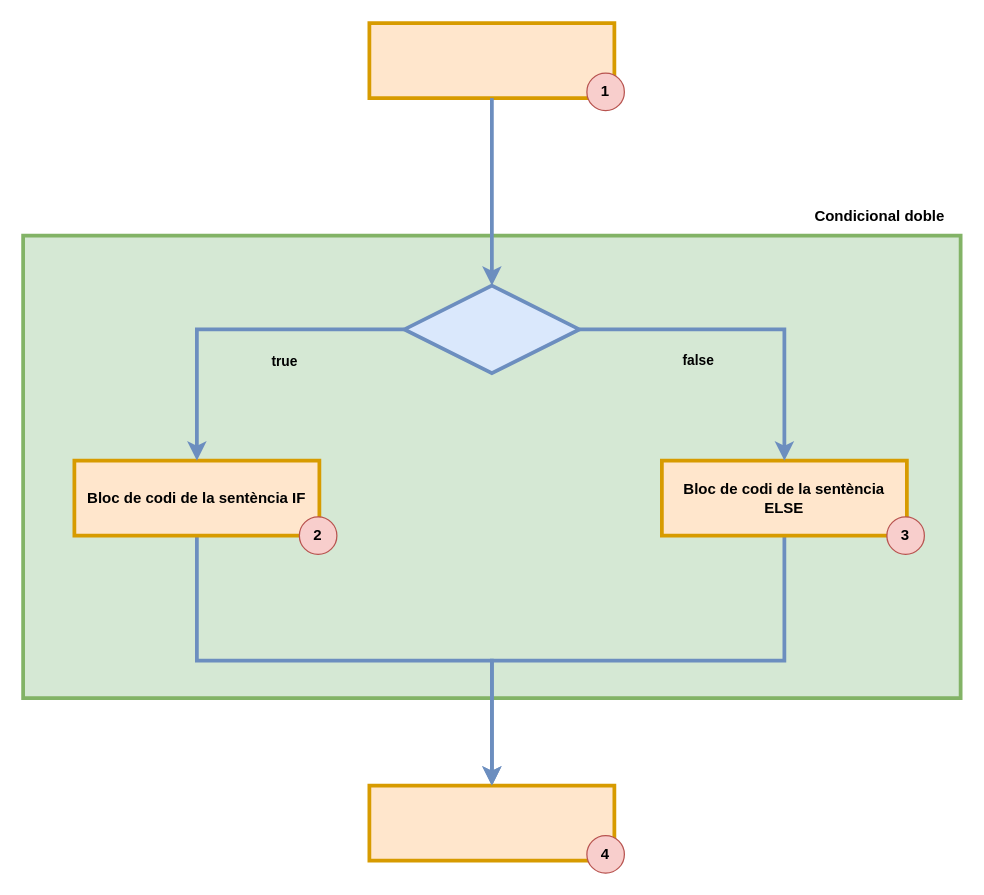
The diagram is 984 pixels wide and 895 high, and some of its shapes have lost their labels. The shapes that lost their labels are listed below. From the top down, each one's box as (x1, y1, x2, y2) in pixels, then its label:
(367, 21, 616, 99): Instruccions abans de la sentència IF
(402, 283, 581, 374): condition
(367, 783, 616, 862): Instruccions després de la sentència IF
